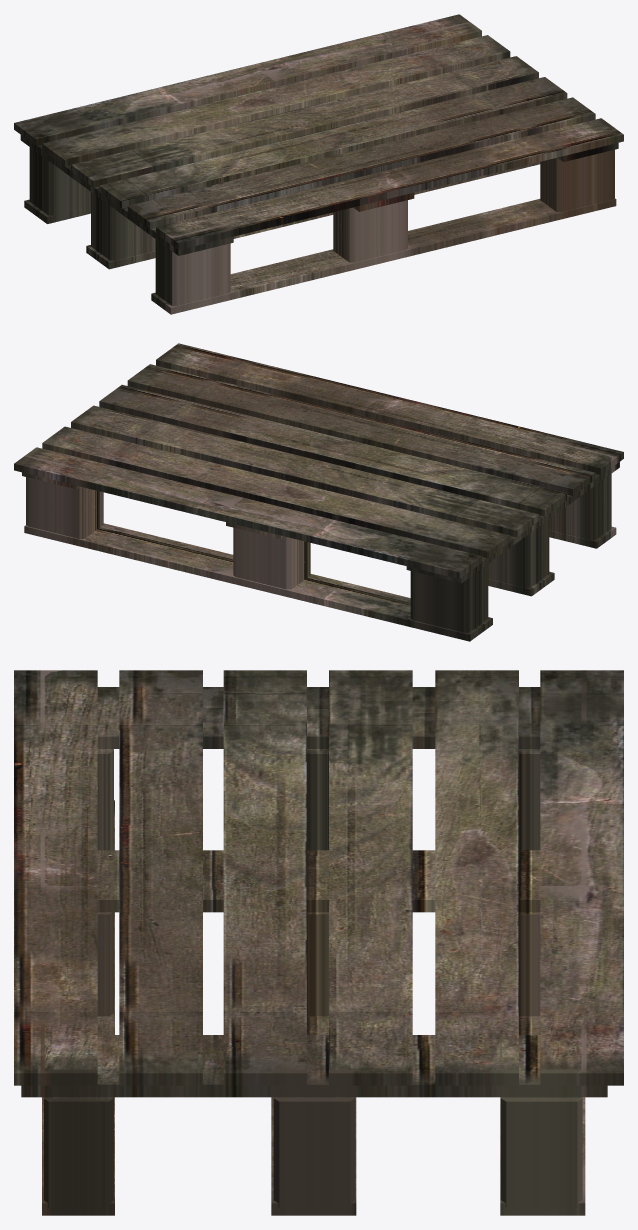
The model's file is europaleta_gra.fbx.
3 views of the same model, one above another, from view 1: azimuth 30°, elevation 25°; view 2: azimuth 150°, elevation 25°; view 3: azimuth 270°, elevation 25° (orthographic). The views are drawn at different scales.
Visible parts, largest first — view 1: Paleta; view 2: Paleta; view 3: Paleta.
Boxes of the visible parts, x1,y1,x2,y2 form: Paleta: (14, 14, 623, 314); Paleta: (14, 343, 623, 641); Paleta: (14, 670, 623, 1215).
Bounding box in the file's own units: 553 × 91.05 × 353.
